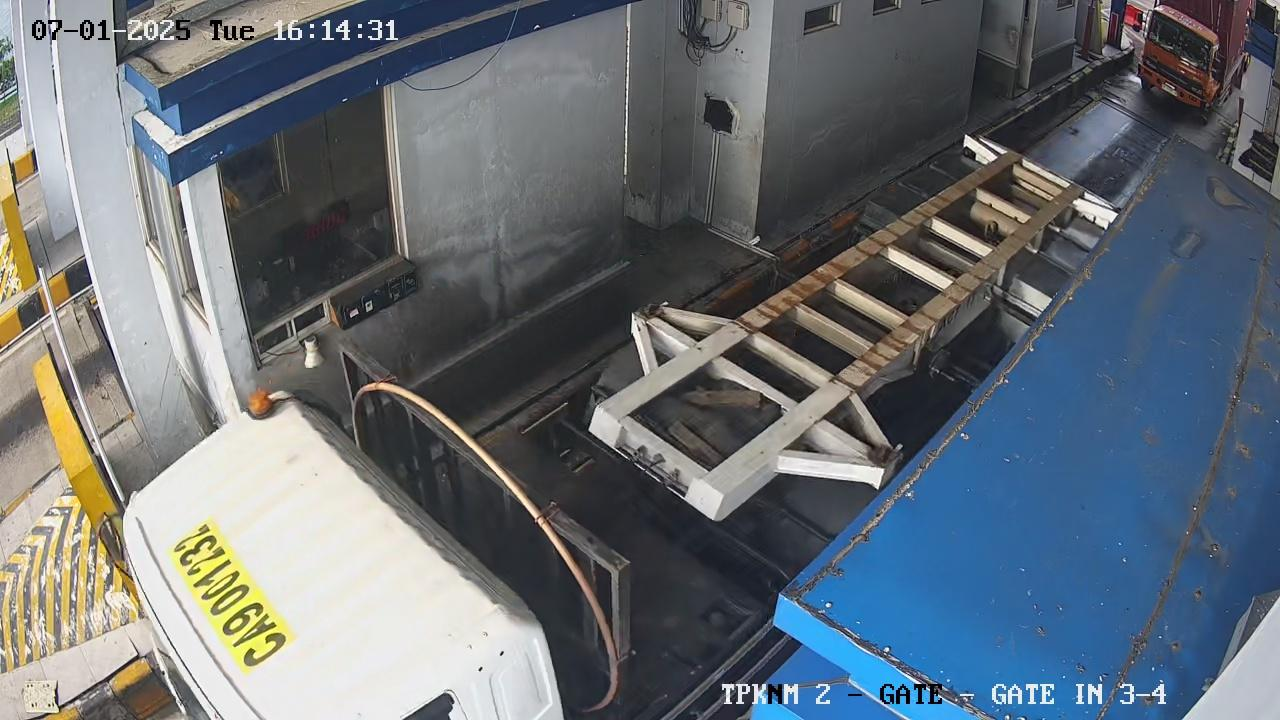truck_id: (163, 509, 305, 675)
